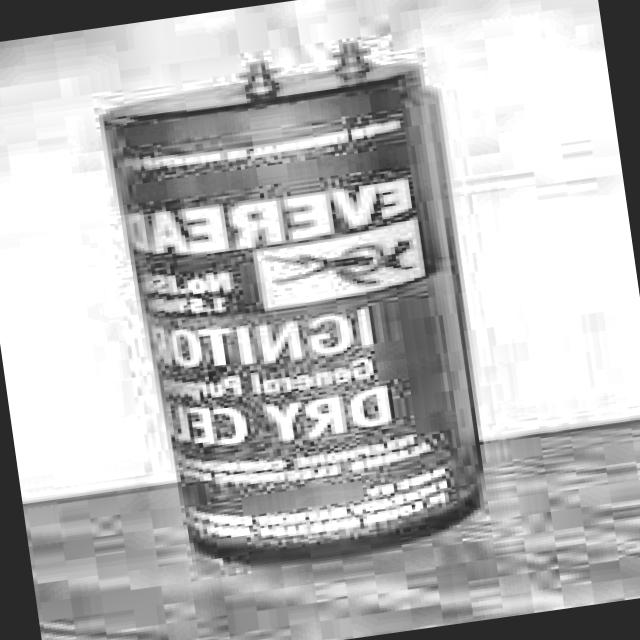Battery: (120, 61, 475, 564)
